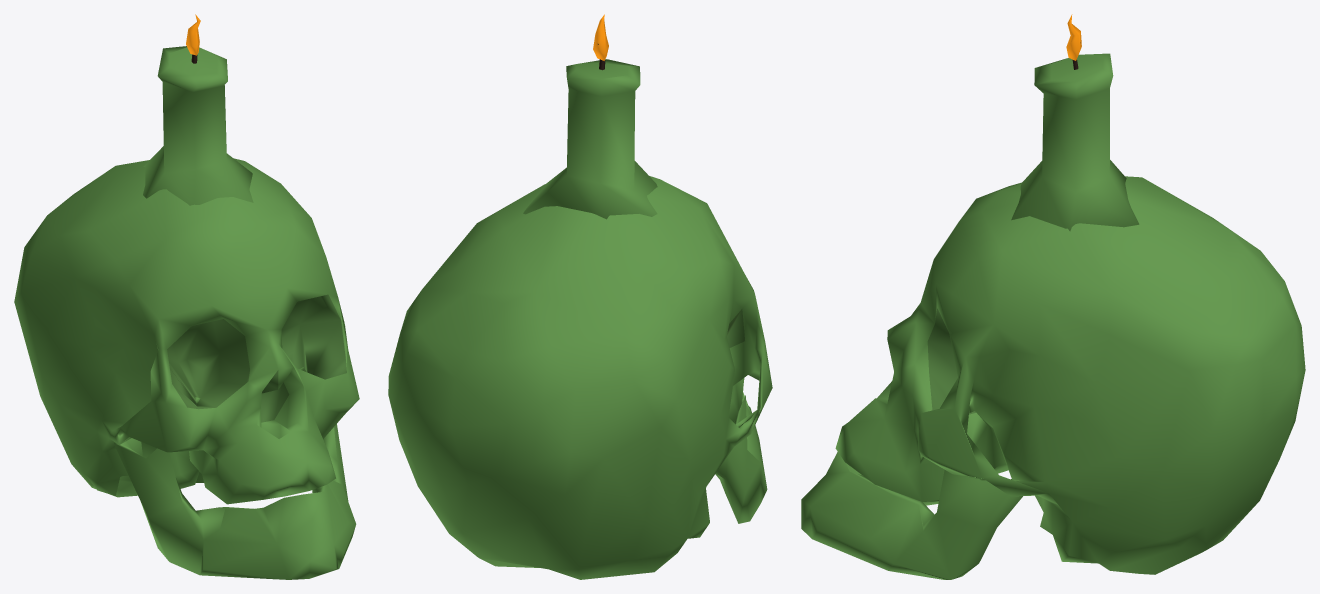
File: CandleSkullShapeB.015.glb
3 renders of one model, left to right at view 1: azimuth 30°, elevation 25°; view 2: azimuth 150°, elevation 25°; view 3: azimuth 270°, elevation 25°, orthographic. The views are drawn at different scales.
Parts seen in each view (by area): view 1: CandleSkullShapeB.015; view 2: CandleSkullShapeB.015; view 3: CandleSkullShapeB.015.
Part boxes in pixels (x1,y1,x2,y2): CandleSkullShapeB.015: (14, 14, 359, 579); CandleSkullShapeB.015: (388, 14, 772, 579); CandleSkullShapeB.015: (801, 14, 1305, 579).
Size of the model in its own units: 0.2005 by 0.3649 by 0.3132.
2 materials, 2 textured.
